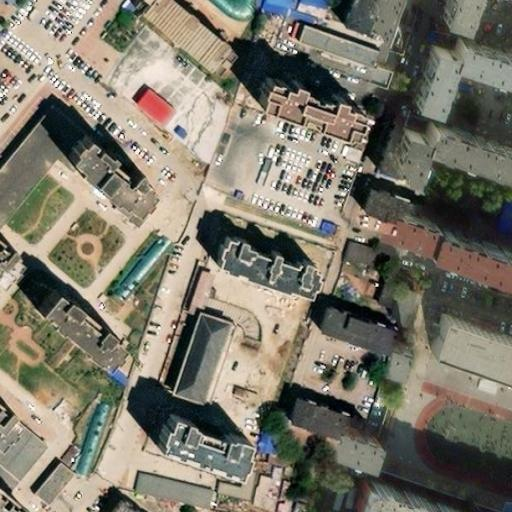building: (378, 120, 512, 193), (133, 0, 226, 84), (405, 33, 512, 104), (255, 86, 362, 148), (217, 225, 331, 283), (425, 307, 512, 382), (177, 322, 242, 422), (73, 152, 157, 229), (39, 301, 122, 375), (218, 244, 320, 301), (417, 217, 512, 274), (158, 424, 249, 482), (293, 405, 377, 458), (347, 475, 465, 512), (293, 27, 379, 77), (109, 231, 168, 300), (327, 317, 404, 367), (365, 194, 428, 239), (77, 412, 115, 484), (134, 482, 222, 512), (135, 100, 180, 141), (339, 0, 381, 43), (179, 263, 212, 314), (255, 446, 298, 478), (382, 283, 414, 324), (251, 471, 283, 512), (486, 185, 512, 233), (39, 478, 75, 512), (341, 237, 377, 268), (113, 174, 141, 200), (275, 486, 299, 512)
